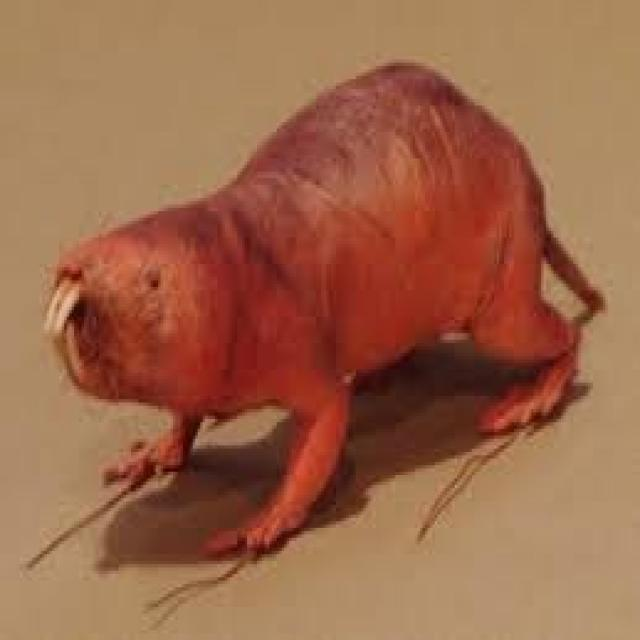Rat: (54, 88, 628, 506)
